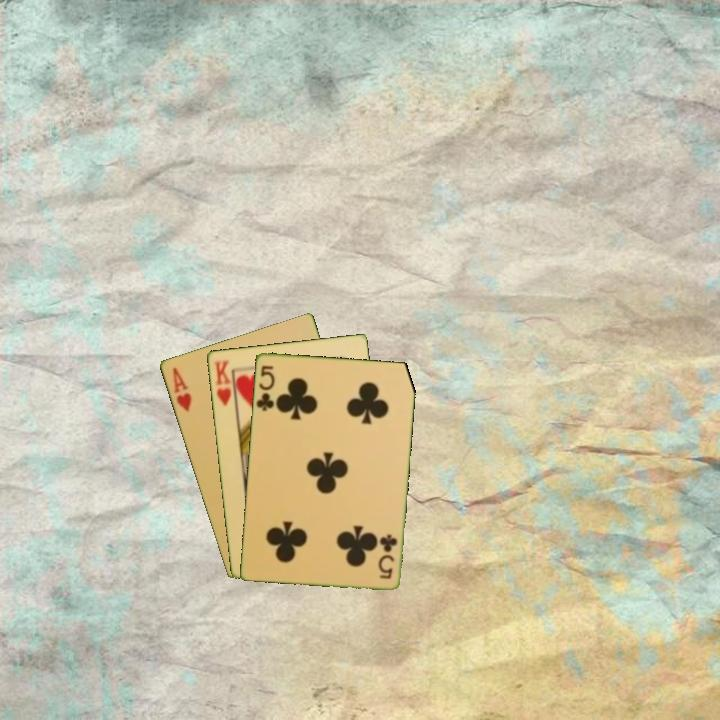5c: (375, 530, 400, 581), (253, 362, 277, 413)
Ah: (169, 364, 194, 414)
Kh: (210, 357, 238, 411)
